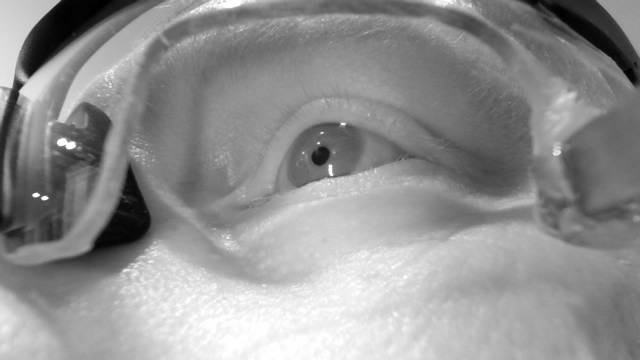pupil: (310, 145, 331, 167)
